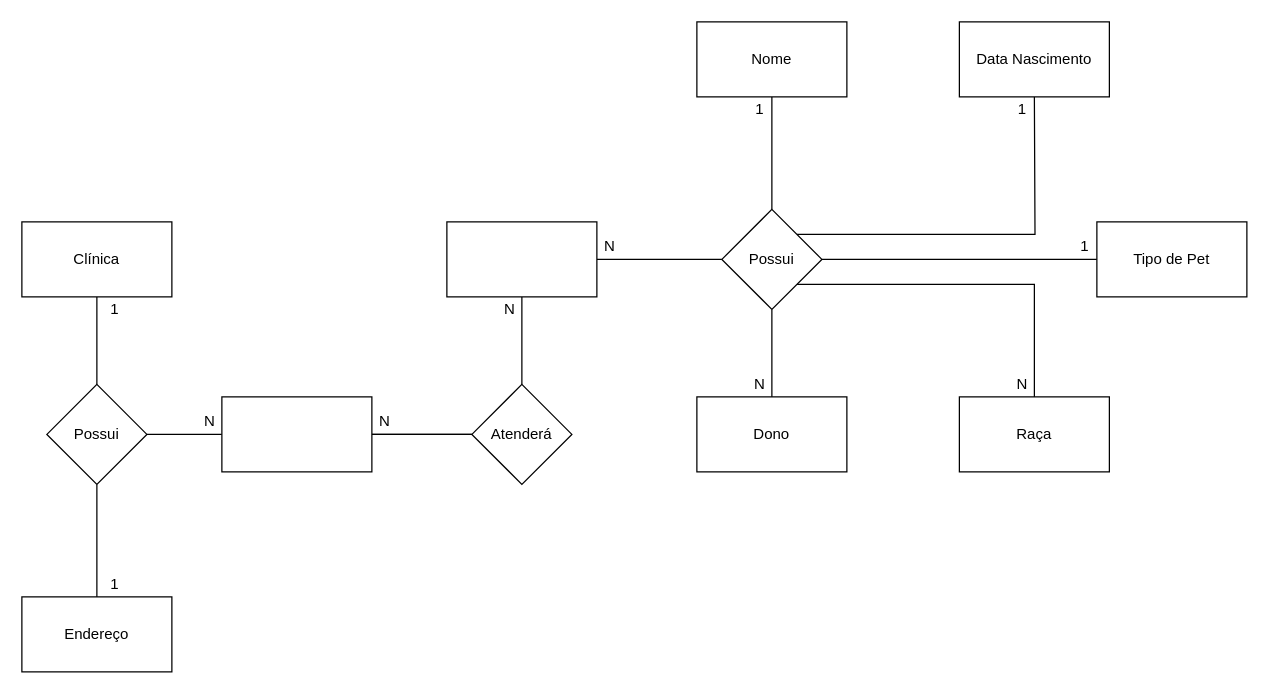
Some shapes in this 1269 by 694 pixel diagram are drawn without their labels. The shapes that lost their labels are listed below. From the top down, each one's box as (x1, y1, x2, y2) in pixels, then its label:
(446, 221, 597, 297): Pet
(221, 396, 372, 472): Veterinario
